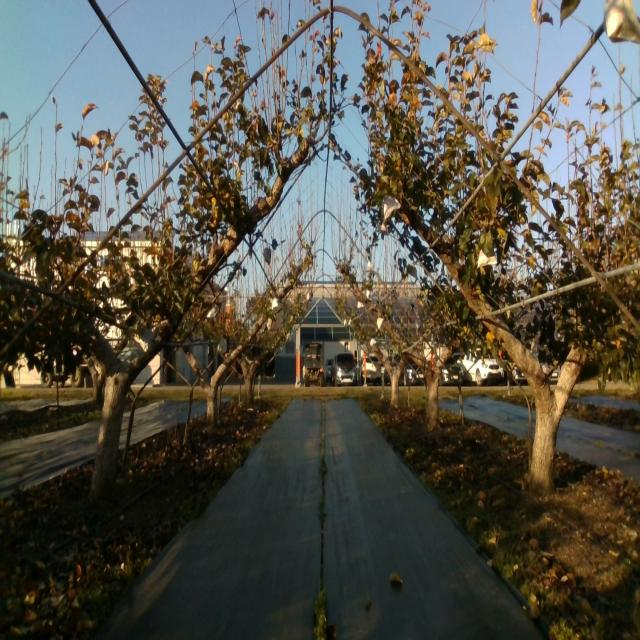pearbags: (134, 325, 155, 353), (478, 246, 498, 269), (383, 194, 399, 220)
